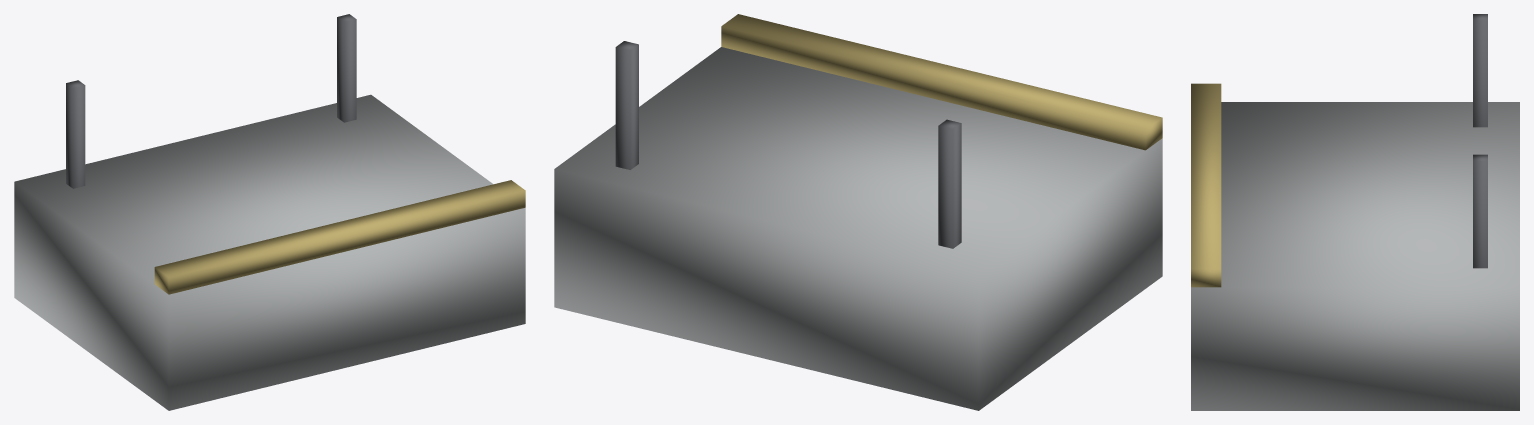
Rendered from loading_dock_12.glb.
3 views of the same model, side by side, from view 1: azimuth 30°, elevation 25°; view 2: azimuth 150°, elevation 25°; view 3: azimuth 270°, elevation 25° (orthographic). The views are drawn at different scales.
Visible parts, largest first — view 1: world; view 2: world; view 3: world.
Part boxes in pixels (bbox=[...]): world: bbox=[14, 14, 525, 410]; world: bbox=[554, 14, 1162, 410]; world: bbox=[1191, 14, 1519, 410].
Size of the model in its own units: 2.6 by 1.51 by 1.95.
